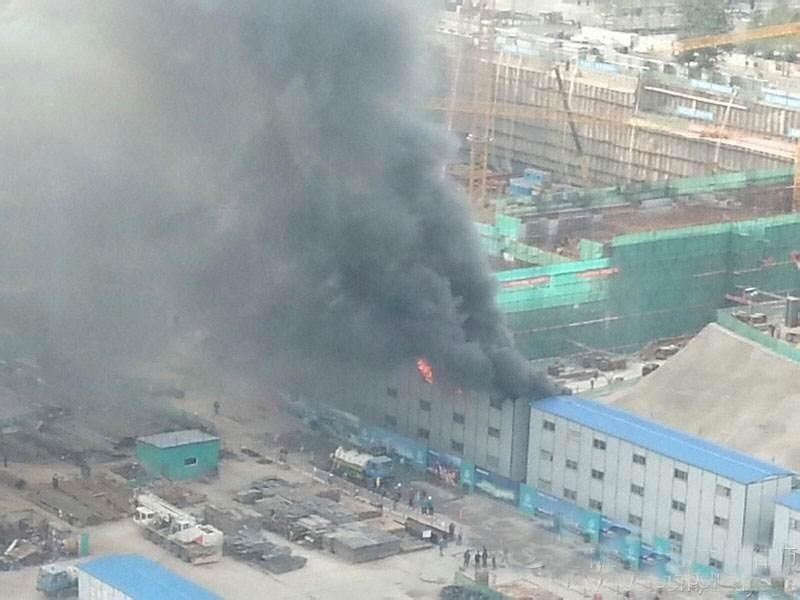fire: (414, 356, 436, 381)
